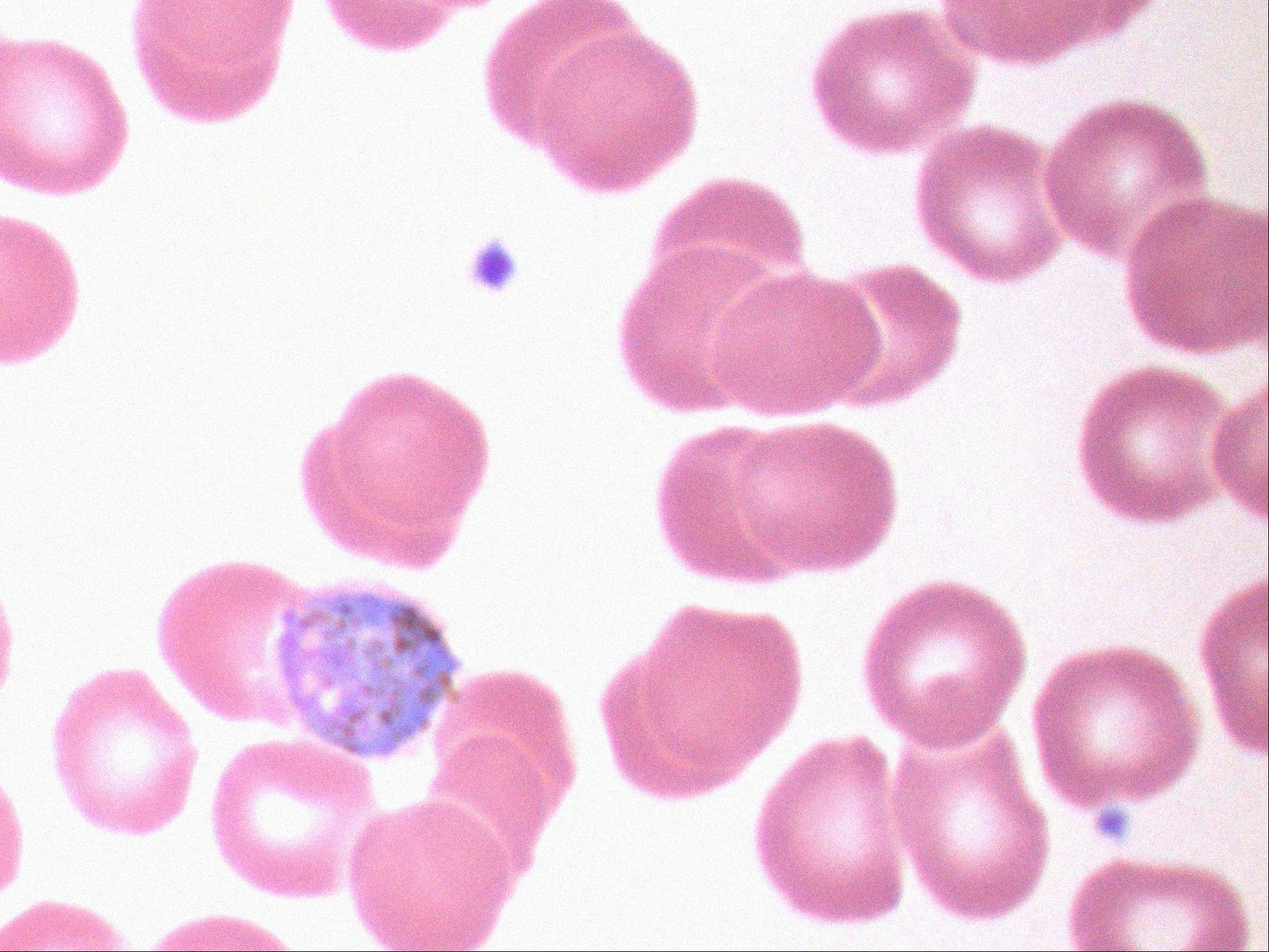Infected: (269, 584, 464, 762)
Uninfected: (659, 423, 891, 582), (605, 605, 797, 793), (302, 374, 485, 569), (892, 735, 1050, 916), (755, 739, 905, 920), (865, 582, 1026, 748), (210, 740, 372, 898), (1034, 649, 1198, 805), (348, 799, 517, 950), (158, 562, 309, 729), (714, 272, 884, 417), (1047, 101, 1204, 256), (617, 247, 764, 410), (538, 34, 690, 191), (54, 673, 196, 837), (1080, 368, 1229, 521), (815, 9, 972, 152), (917, 126, 1059, 278), (1127, 197, 1264, 354), (487, 1, 632, 143), (2, 40, 126, 194), (438, 673, 570, 812), (840, 270, 962, 406), (652, 180, 804, 266)
